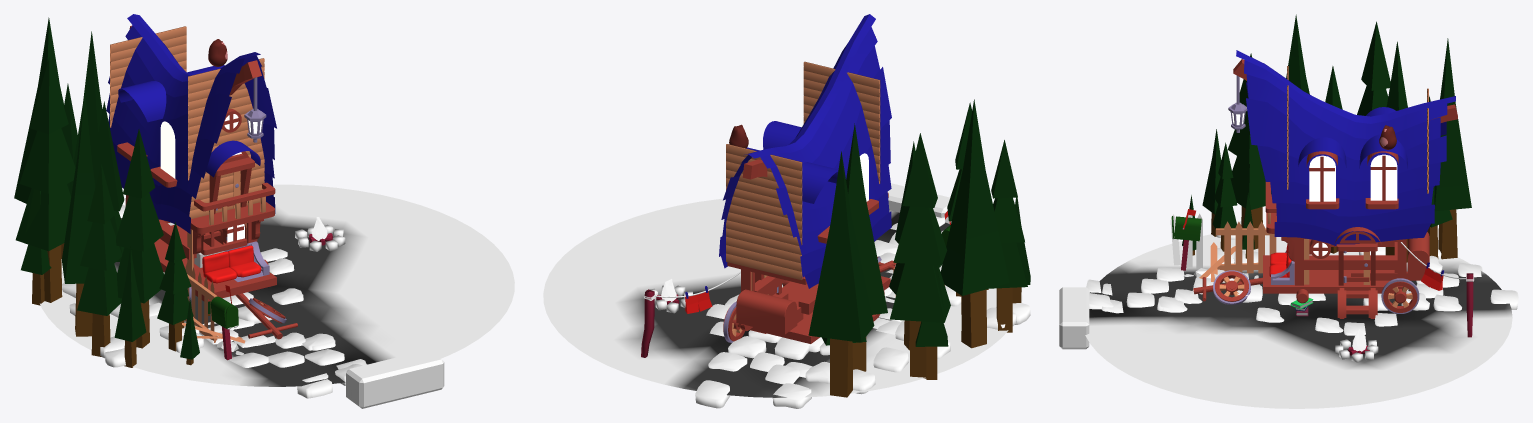
The picture shows the model from 3 angles, left to right: view 1: azimuth 30°, elevation 25°; view 2: azimuth 150°, elevation 25°; view 3: azimuth 270°, elevation 25°; orthographic projection. The views are drawn at different scales.
Parts seen in each view (by area): view 1: Circle.001, Cylinder.004, Cube.085, Cube.103, Cube.091, Cube.048, Cube.069, Cube.092, Cube.106, Cube.049, Cube.101, Cube.099 (+20 smaller); view 2: Circle.001, Cylinder.004, Cube.092, Cube.049, Cube.086, Cube.085, Cube.091, Cube.095, Cube.048, Cube.012, Cube, Cube.084 (+18 smaller); view 3: Circle.001, Cylinder.004, Cube.086, Cube.103, Cube, Cube.069, Cube.085, Plane.007, Cube.106, Cube.008, Plane.001, Plane (+16 smaller).
Part boxes in pixels (x1,y1,x2,y2): Circle.001: [40, 184, 514, 386]; Cylinder.004: [106, 14, 276, 233]; Cube.085: [15, 57, 75, 302]; Cube.103: [116, 129, 163, 348]; Cube.091: [77, 163, 121, 356]; Cube.048: [188, 58, 264, 218]; Cube.069: [346, 350, 444, 408]; Cube.092: [61, 88, 95, 336]; Cube.106: [157, 222, 193, 351]; Cube.049: [110, 26, 186, 127]; Cube.101: [114, 246, 146, 367]; Cube.099: [92, 101, 124, 261]; Circle.001: [543, 198, 1022, 397]; Cylinder.004: [719, 14, 891, 288]; Cube.092: [940, 99, 1009, 348]; Cube.049: [726, 144, 802, 280]; Cube.086: [808, 151, 874, 397]; Cube.085: [890, 133, 950, 378]; Cube.091: [990, 140, 1027, 332]; Cube.095: [846, 123, 887, 371]; Cube.048: [803, 61, 880, 183]; Cube.012: [736, 289, 797, 334]; Cube: [739, 276, 890, 343]; Cube.084: [915, 265, 948, 379]; Circle.001: [1085, 227, 1512, 408]; Cylinder.004: [1236, 50, 1455, 245]; Cube.086: [1434, 38, 1471, 259]; Cube.103: [1227, 53, 1271, 249]; Cube: [1263, 255, 1406, 293]; Cube.069: [1059, 287, 1089, 349]; Cube.085: [1357, 21, 1390, 115]; Plane.007: [1224, 221, 1276, 273]; Cube.106: [1212, 142, 1237, 251]; Cube.008: [1304, 240, 1397, 269]; Plane.001: [1370, 154, 1397, 200]; Plane: [1309, 155, 1335, 201].
Bounding box in the file's own units: 6.96 × 4.47 × 7.17.
